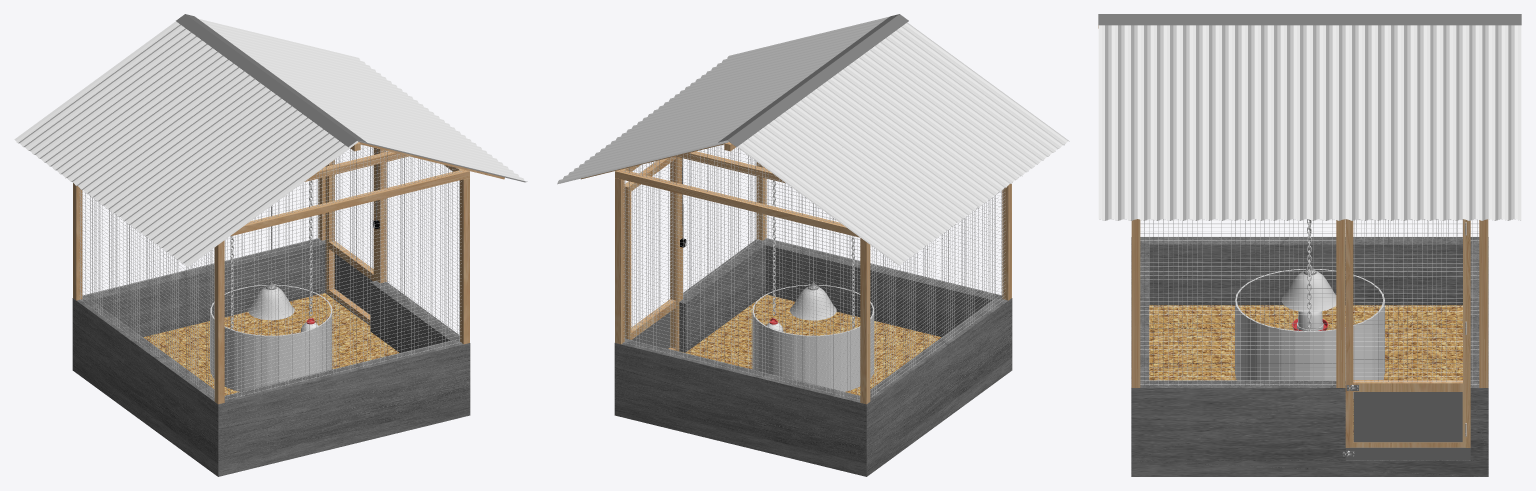
File: 2x2 Broiler.glb
The picture shows the model from 3 angles, left to right: view 1: azimuth 30°, elevation 25°; view 2: azimuth 150°, elevation 25°; view 3: azimuth 270°, elevation 25°; orthographic projection. The views are drawn at different scales.
Visible parts, largest first — view 1: Concrete Cement, 0.9m x 6m__0.4mm divide into 4 - Back, 0.9m x 6m__0.4mm divide into 4 - Front, Mesh Wire Horizontal 0.025x0.025x0.0016m, Mesh Wire Vertical 0.025x0.025x0.0016m, Rice Hull.001, Cylinder, Mesh Wire Vertical 0.025x0.025x0.0016m.Back, Mesh Wire Horizontal 0.025x0.025x0.0016m.Back, Mesh Wire Vertical 0.025x0.025x0.0016m.Front, Ridge Roll, Wall Plate Left (+14 smaller); view 2: Concrete Cement, 0.9m x 6m__0.4mm divide into 4 - Back, 0.9m x 6m__0.4mm divide into 4 - Front, Mesh Wire Horizontal 0.025x0.025x0.0016m.Right, Mesh Wire Vertical 0.025x0.025x0.0016m.Right, Rice Hull.001, Cylinder, Mesh Wire Vertical 0.025x0.025x0.0016m.Back, Mesh Wire Horizontal 0.025x0.025x0.0016m.Back, Ridge Roll, Mesh Wire Vertical 0.025x0.025x0.0016m.Front, Wall Plate Right (+14 smaller); view 3: 0.9m x 6m__0.4mm divide into 4 - Front, Concrete Cement, Rice Hull.001, Cylinder, Mesh Wire Horizontal 0.025x0.025x0.0016m.Front, Mesh Wire Vertical 0.025x0.025x0.0016m.Front, Door Silver, Ridge Roll, Door Frame, Mesh Wire Horizontal 0.025x0.025x0.0016m.Door, Mesh Wire Vertical 0.025x0.025x0.0016m.Door, Frame (+7 smaller).
Part boxes in pixels (x1,y1,x2,y2): Concrete Cement: (72, 238, 470, 476); 0.9m x 6m__0.4mm divide into 4 - Back: (14, 21, 358, 267); 0.9m x 6m__0.4mm divide into 4 - Front: (198, 18, 527, 182); Mesh Wire Horizontal 0.025x0.025x0.0016m: (225, 145, 461, 399); Mesh Wire Vertical 0.025x0.025x0.0016m: (227, 145, 459, 399); Rice Hull.001: (143, 293, 398, 395); Cylinder: (210, 284, 332, 391); Mesh Wire Vertical 0.025x0.025x0.0016m.Back: (80, 189, 214, 397); Mesh Wire Horizontal 0.025x0.025x0.0016m.Back: (79, 189, 214, 397); Mesh Wire Vertical 0.025x0.025x0.0016m.Front: (385, 151, 459, 337); Ridge Roll: (176, 14, 366, 147); Wall Plate Left: (230, 169, 469, 236); Concrete Cement: (614, 238, 1012, 476); 0.9m x 6m__0.4mm divide into 4 - Back: (737, 22, 1069, 265); 0.9m x 6m__0.4mm divide into 4 - Front: (557, 16, 889, 184); Mesh Wire Horizontal 0.025x0.025x0.0016m.Right: (623, 145, 859, 399); Mesh Wire Vertical 0.025x0.025x0.0016m.Right: (625, 145, 857, 399); Rice Hull.001: (680, 294, 941, 395); Cylinder: (752, 284, 873, 391); Mesh Wire Vertical 0.025x0.025x0.0016m.Back: (872, 189, 1003, 396); Mesh Wire Horizontal 0.025x0.025x0.0016m.Back: (870, 188, 1005, 396); Ridge Roll: (718, 14, 908, 147); Mesh Wire Vertical 0.025x0.025x0.0016m.Front: (634, 145, 758, 290); Wall Plate Right: (615, 169, 859, 237); 0.9m x 6m__0.4mm divide into 4 - Front: (1098, 25, 1521, 220); Concrete Cement: (1131, 237, 1488, 476); Rice Hull.001: (1149, 305, 1462, 438); Cylinder: (1235, 269, 1384, 398); Mesh Wire Horizontal 0.025x0.025x0.0016m.Front: (1140, 223, 1478, 384); Mesh Wire Vertical 0.025x0.025x0.0016m.Front: (1144, 219, 1477, 385); Door Silver: (1353, 392, 1462, 442); Ridge Roll: (1098, 14, 1521, 25); Door Frame: (1350, 219, 1465, 447); Mesh Wire Horizontal 0.025x0.025x0.0016m.Door: (1353, 219, 1462, 381); Mesh Wire Vertical 0.025x0.025x0.0016m.Door: (1354, 219, 1456, 381); Frame: (1345, 219, 1470, 447).
Size of the model in its own units: 2.72 by 2.39 by 2.37.
25 materials, 7 textured.
